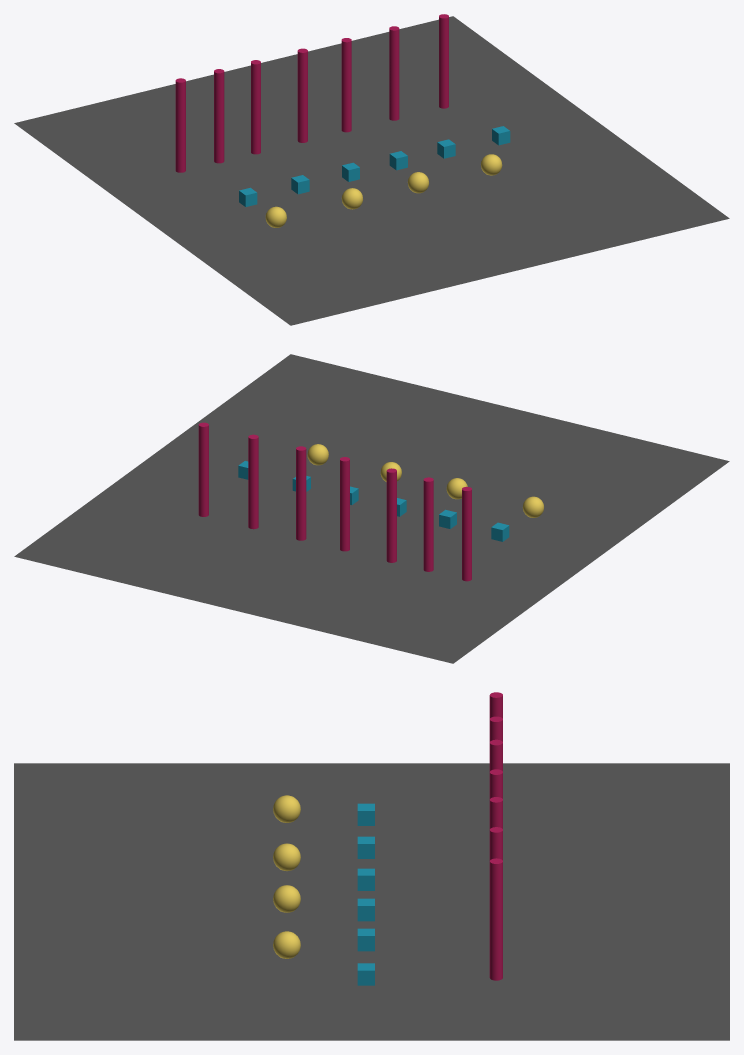
The model's file is simple_001_Camera-FarPlane_05.dae.
3 views of the same model, one above another, from view 1: azimuth 30°, elevation 25°; view 2: azimuth 150°, elevation 25°; view 3: azimuth 270°, elevation 25° (orthographic). The views are drawn at different scales.
Parts seen in each view (by area): view 1: pPlane1, pCylinder1, pCylinder5, pCylinder6, pCylinder2, pCylinder4, pCylinder3, pCylinder7; view 2: pPlane1, pCylinder3, pCylinder5, pCylinder6, pCylinder2, pCylinder7, pCylinder4, pCylinder1; view 3: pPlane1, pCylinder7, pSphere2, pSphere4, pSphere1, pSphere3.
Part boxes in pixels (x1=…): pPlane1: x1=14, y1=16, x2=729, y2=325; pCylinder1: x1=175, y1=78, x2=185, y2=172; pCylinder5: x1=341, y1=38, x2=351, y2=132; pCylinder6: x1=389, y1=26, x2=399, y2=120; pCylinder2: x1=214, y1=69, x2=224, y2=163; pCylinder4: x1=297, y1=48, x2=307, y2=142; pCylinder3: x1=251, y1=60, x2=260, y2=154; pCylinder7: x1=439, y1=14, x2=448, y2=108; pPlane1: x1=14, y1=354, x2=729, y2=663; pCylinder3: x1=386, y1=468, x2=396, y2=562; pCylinder5: x1=296, y1=446, x2=306, y2=540; pCylinder6: x1=248, y1=434, x2=258, y2=529; pCylinder2: x1=423, y1=477, x2=433, y2=571; pCylinder7: x1=198, y1=422, x2=208, y2=516; pCylinder4: x1=340, y1=457, x2=349, y2=551; pCylinder1: x1=462, y1=486, x2=471, y2=581; pPlane1: x1=14, y1=763, x2=729, y2=1040; pCylinder7: x1=489, y1=858, x2=502, y2=980; pSphere2: x1=273, y1=843, x2=300, y2=870; pSphere4: x1=273, y1=931, x2=300, y2=958; pSphere1: x1=273, y1=795, x2=300, y2=822; pSphere3: x1=273, y1=885, x2=300, y2=912.
Bounding box in the file's own units: 798 × 871 × 158.
